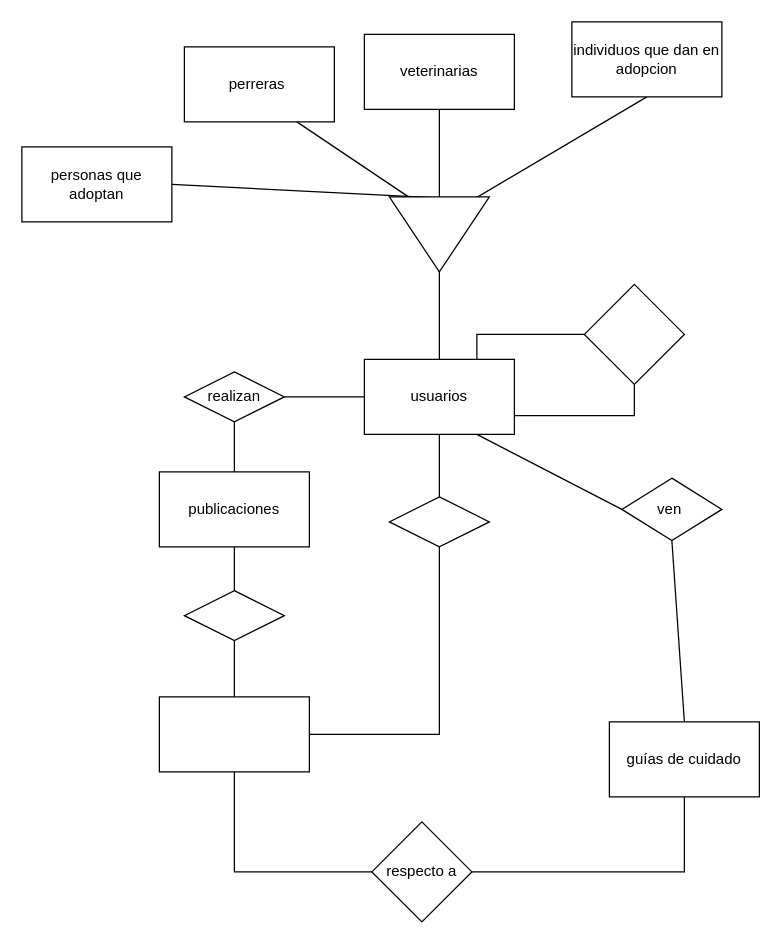
Some shapes in this 781 by 944 pixel diagram are drawn without their labels. Here are the shapes that lost their labels. From the top down, the centre of each, then its label:
At (438,234): "son".
At (633,333): "chatean con".
At (438,521): "adoptan".
At (233,615): "sobre".
At (233,734): "mascotas".
